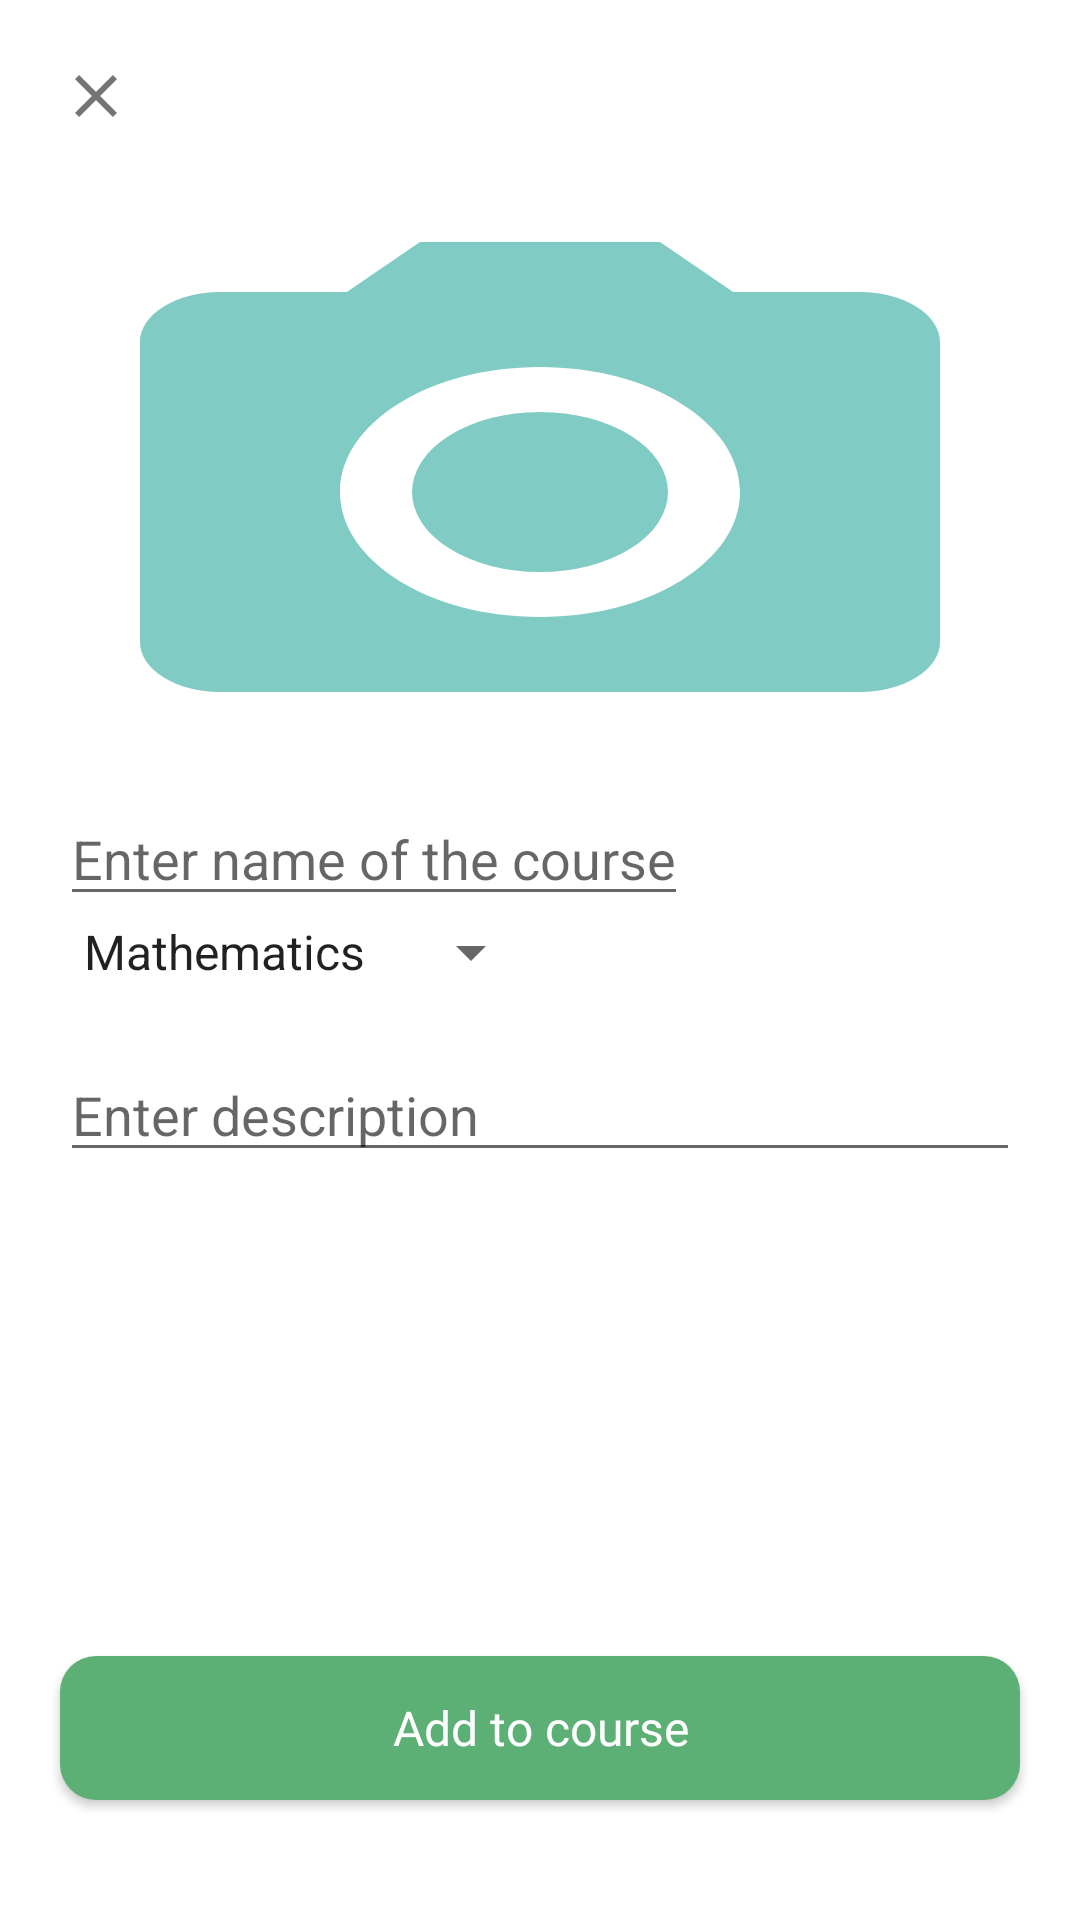

Icons on this 1080px×1920px Android screen, each with the point to tap as (x,y):
close: (96,96)
